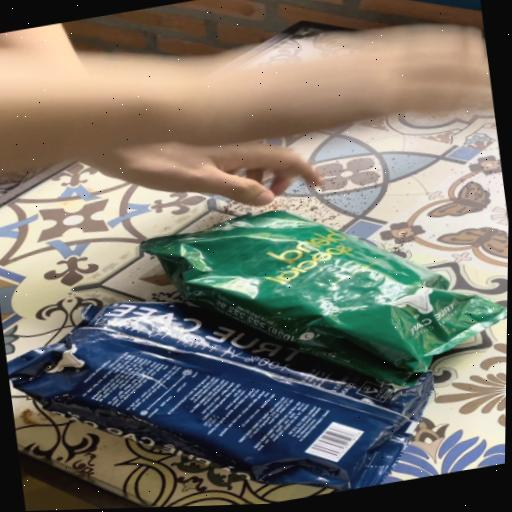cafe_hat: (7, 302, 433, 491), (141, 210, 507, 386)
cafe_xay: (141, 210, 507, 386)
